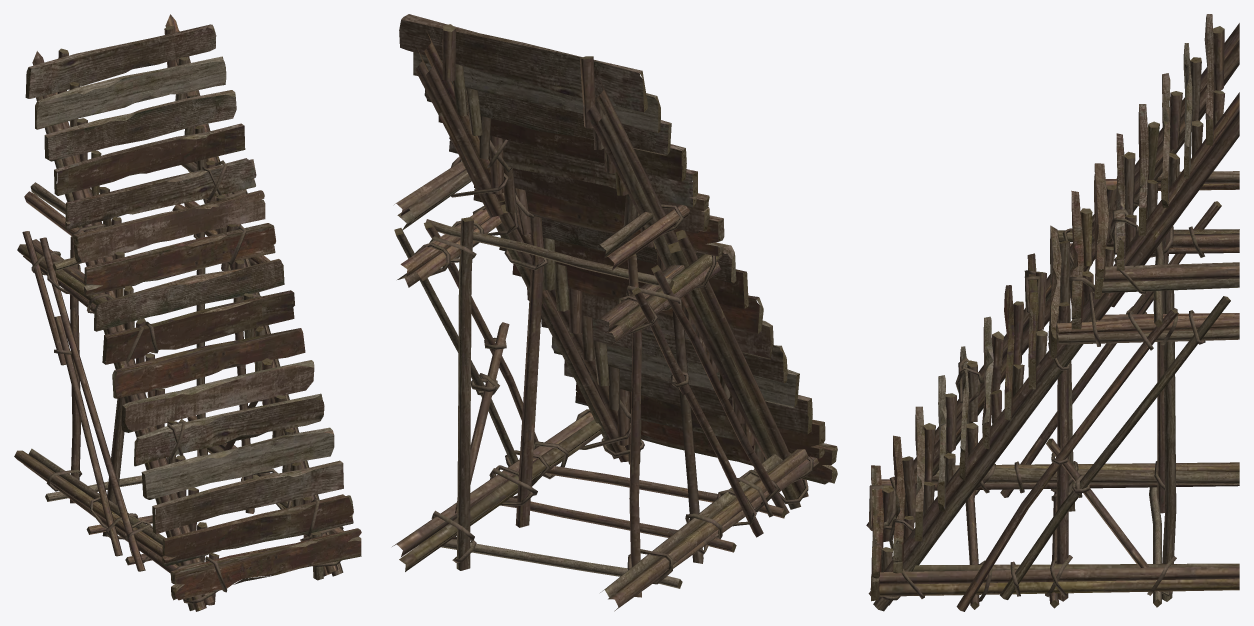
Rendered from VIK_RAM_Stairs_Entrance_01A_LOD0-transformed.glb.
3 renders of one model, left to right at view 1: azimuth 30°, elevation 25°; view 2: azimuth 150°, elevation 25°; view 3: azimuth 270°, elevation 25°, orthographic. The views are drawn at different scales.
Parts seen in each view (by area): view 1: VIK_RAM_Stairs_Entrance_01A_LOD0; view 2: VIK_RAM_Stairs_Entrance_01A_LOD0; view 3: VIK_RAM_Stairs_Entrance_01A_LOD0.
Part boxes in pixels (left/top/right/bottom): VIK_RAM_Stairs_Entrance_01A_LOD0: left=14, top=14, right=361, bottom=611; VIK_RAM_Stairs_Entrance_01A_LOD0: left=392, top=14, right=837, bottom=611; VIK_RAM_Stairs_Entrance_01A_LOD0: left=866, top=14, right=1239, bottom=611.
Size of the model in its own units: 0.0232 by 0.0512 by 0.0335.
3 materials, 3 textured.
